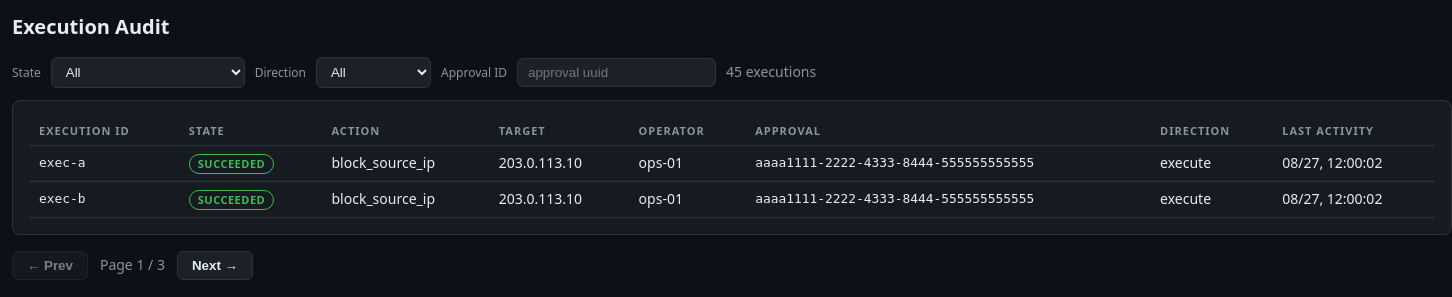
ExecutionAuditPage › D. pagination sends page= and reflects the server total
The width and height of the screenshot is (1452, 297).
Expected: the text "Page 1 / 3" is shown, [100,255,165,276]
What coordinates should you click on to do the following:
click the button "Next →"
I would click on:
 (215, 265)
Its box is [177,251,253,280].
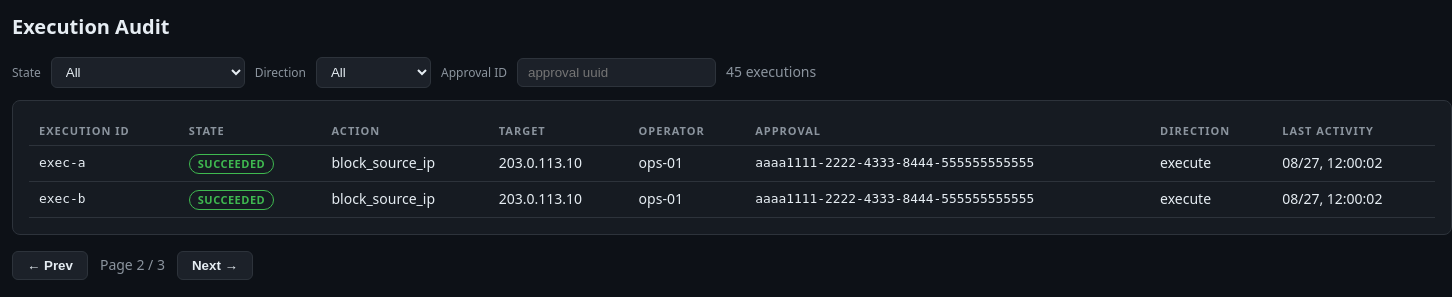
Expected: the text "Page 2 / 3" is shown, [100,255,165,276]
What coordinates should you click on to do the following:
click the button "← Prev"
I would click on:
 (50, 265)
Its box is [12,251,88,280].
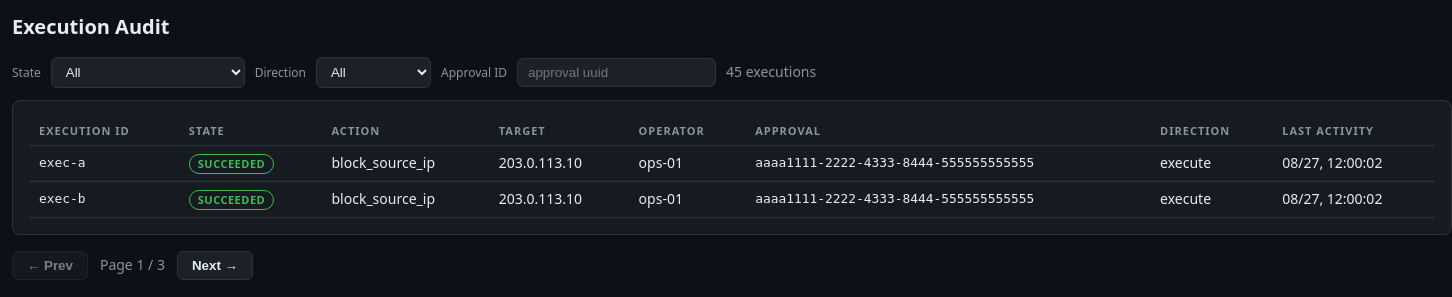
Expected: the text "Page 1 / 3" is shown, [100,255,165,276]
